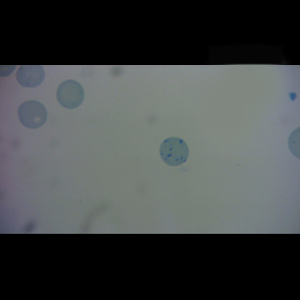aggregate reticulocyte: (158, 137, 190, 167)
erythrocyte: (16, 99, 49, 130)
punctate reticulocyte: (55, 78, 86, 111), (15, 65, 47, 89)
